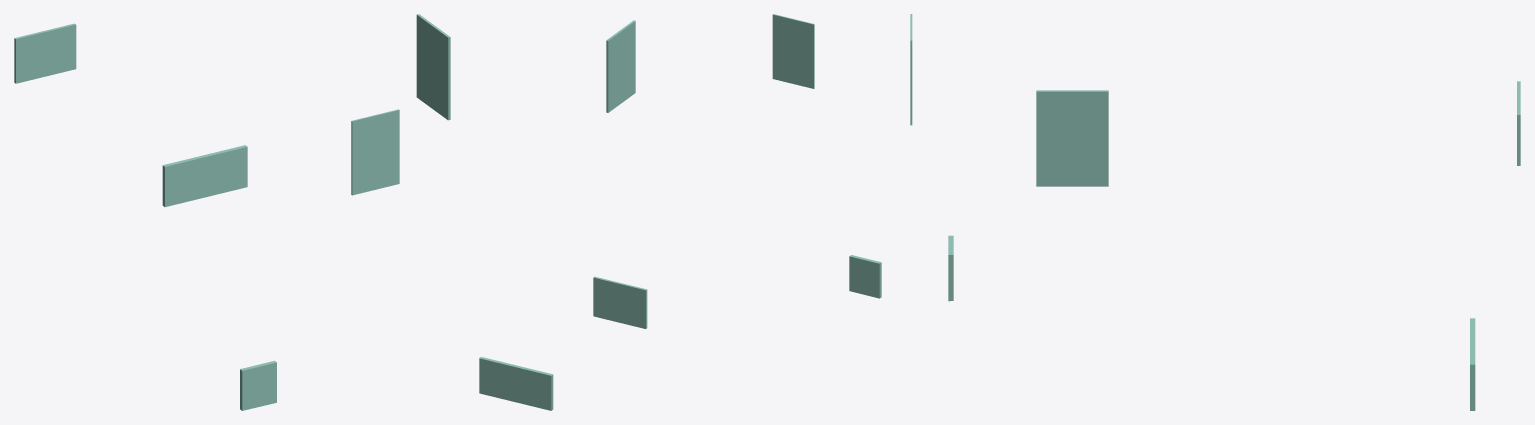
The model's file is GlassGrandWinterHouse.fbx.
3 renders of one model, left to right at view 1: azimuth 30°, elevation 25°; view 2: azimuth 150°, elevation 25°; view 3: azimuth 270°, elevation 25°, orthographic. The views are drawn at different scales.
Parts seen in each view (by area): view 1: Cube.004; view 2: Cube.004; view 3: Cube.004.
Part boxes in pixels (bbox=[...]): Cube.004: bbox=[14, 14, 450, 410]; Cube.004: bbox=[479, 14, 881, 410]; Cube.004: bbox=[910, 14, 1520, 410].
Size of the model in its own units: 1229 by 1362 by 2295.
